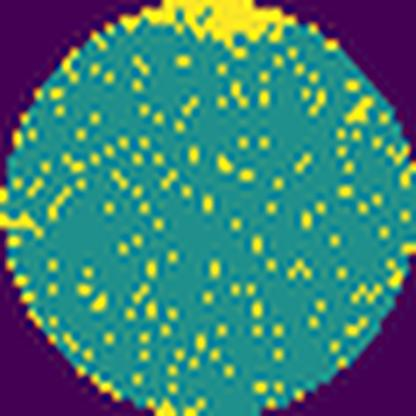Edge-Loc: (119, 0, 292, 54)
